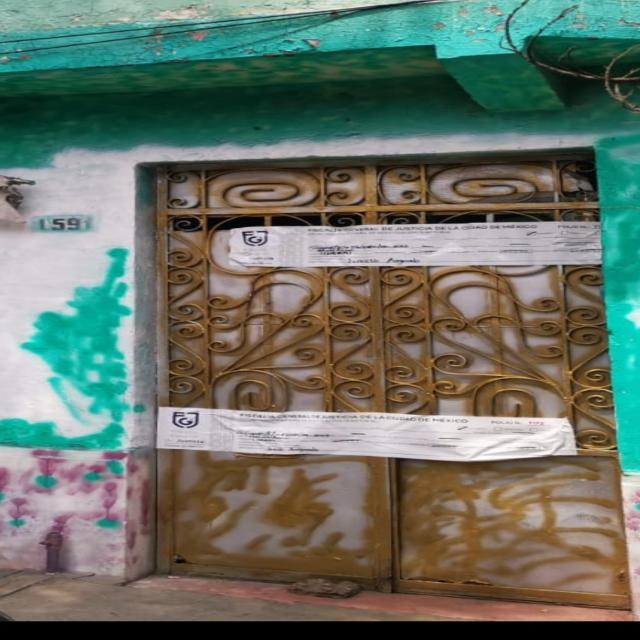stamps: (155, 408, 577, 463), (233, 224, 601, 263)
